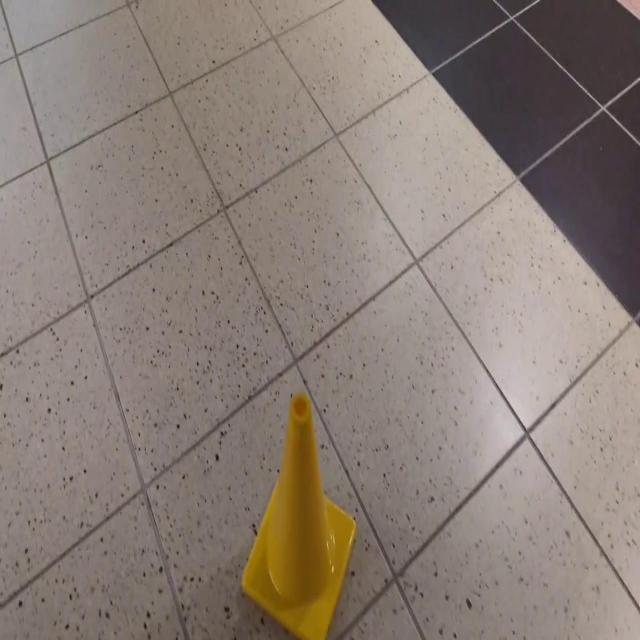frc_cone: (237, 389, 359, 640)
